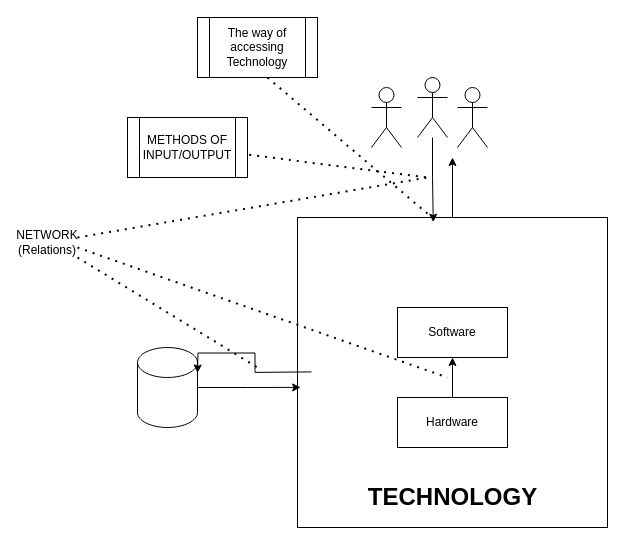
Some shapes in this 625 by 545 pixel diagram are drawn without their labels. The centre of each missing label's shape, as x and y in pixels:
DATA: the point at 167,387
PEOPLE: the point at 432,107
